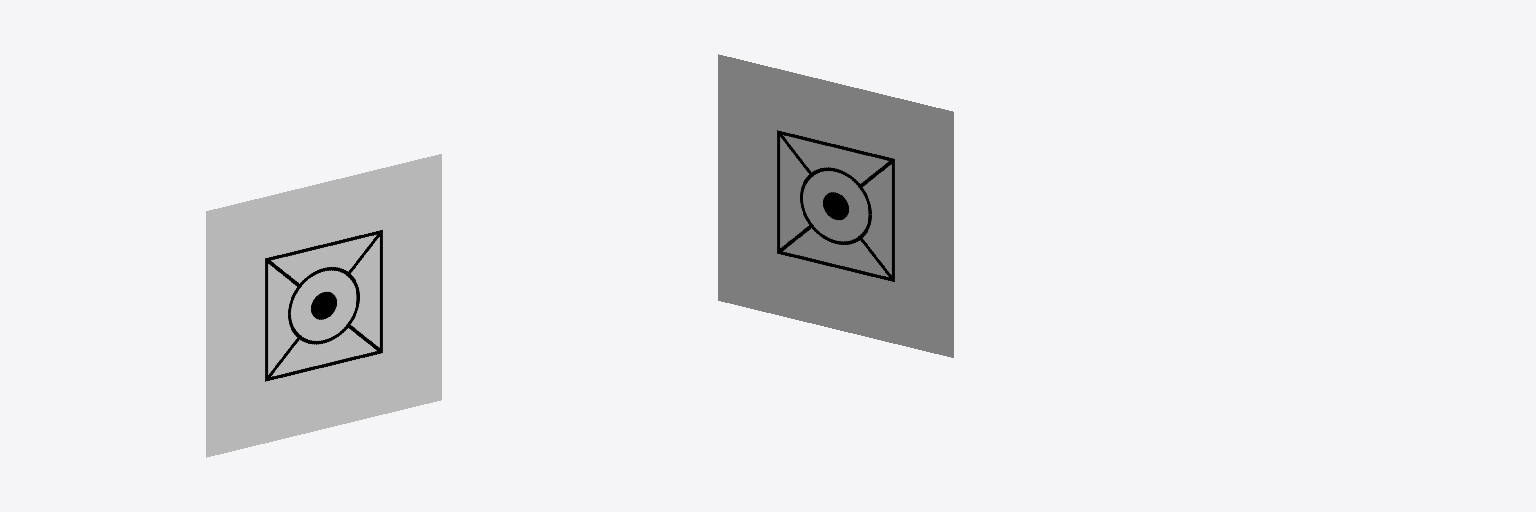
3 renders of one model, left to right at view 1: azimuth 30°, elevation 25°; view 2: azimuth 150°, elevation 25°; view 3: azimuth 270°, elevation 25°, orthographic.
Visible parts, largest first — view 1: Mesh; view 2: Mesh; view 3: none.
Part boxes in pixels (x1,y1,x2,y2): Mesh: (206, 154, 441, 457); Mesh: (718, 54, 953, 357).
Size of the model in its own units: 50 by 50 by 50.
Materials: 2 (2 with a texture image).